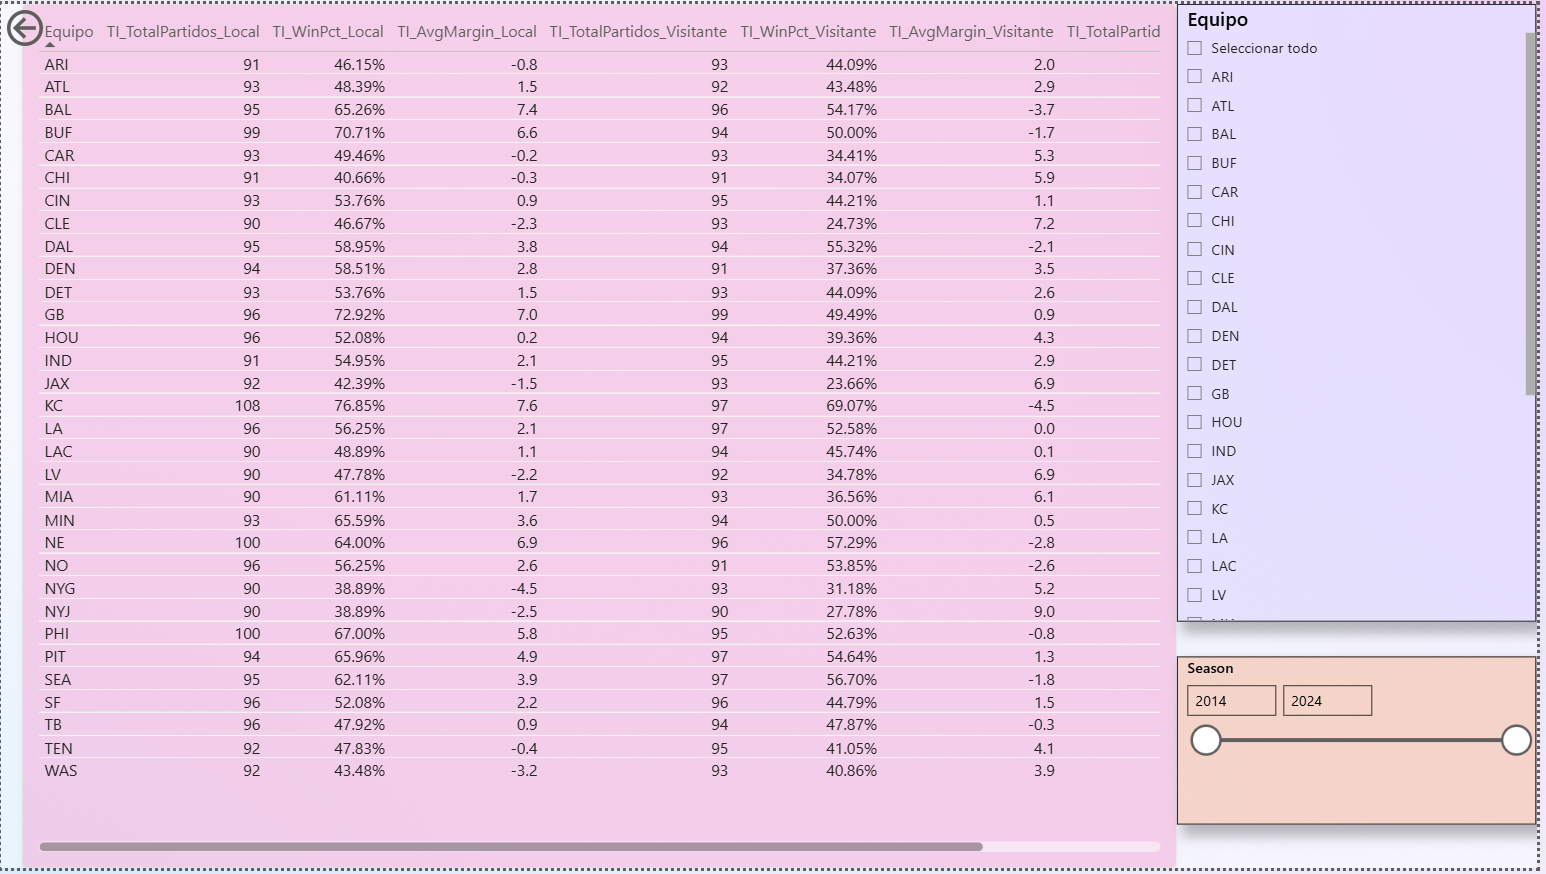

This screenshot's page, from the dashboard's own definition file:
{"tool":"powerbi","page":{"name":"Tabla Interactiva","canvas":[1280,720],"ordinal":4},"visuals":[{"type":"tableEx","fields":{"Values":["Equipos.Equipo","Base de Datos.TI_TotalPartidos_Local","Base de Datos.TI_WinPct_Local","Base de Datos.TI_AvgMargin_Local","Base de Datos.TI_TotalPartidos_Visitante","Base de Datos.TI_WinPct_Visitante","Base de Datos.TI_AvgMargin_Visitante","Base de Datos.TI_TotalPartidos_Jugados","Base de Datos.TI_WinPct_Total"]},"box":[18.1,0,961.8,720.2],"z":0},{"type":"actionButton","box":[0,0,100,40],"z":1000},{"type":"slicer","fields":{"Values":["Base de Datos.season"]},"box":[979.9,543.7,299.7,140.2],"z":1001},{"type":"slicer","fields":{"Values":["Equipos.Equipo"]},"box":[979.9,0,299.7,514.7],"z":1002}]}

Visuals, with their boxes on the page's 1280x720 design canvas (x1, y1, x2, y2). These are canvas units, not pixel positions in the 1546x874 screenshot, which may show the page scaled, cropped or inside an application window:
tableEx - Equipos.Equipo x Base de Datos.TI_TotalPartidos_Local: rect(18, 0, 980, 720)
actionButton: rect(0, 0, 100, 40)
slicer - Base de Datos.season: rect(980, 544, 1280, 684)
slicer - Equipos.Equipo: rect(980, 0, 1280, 515)
